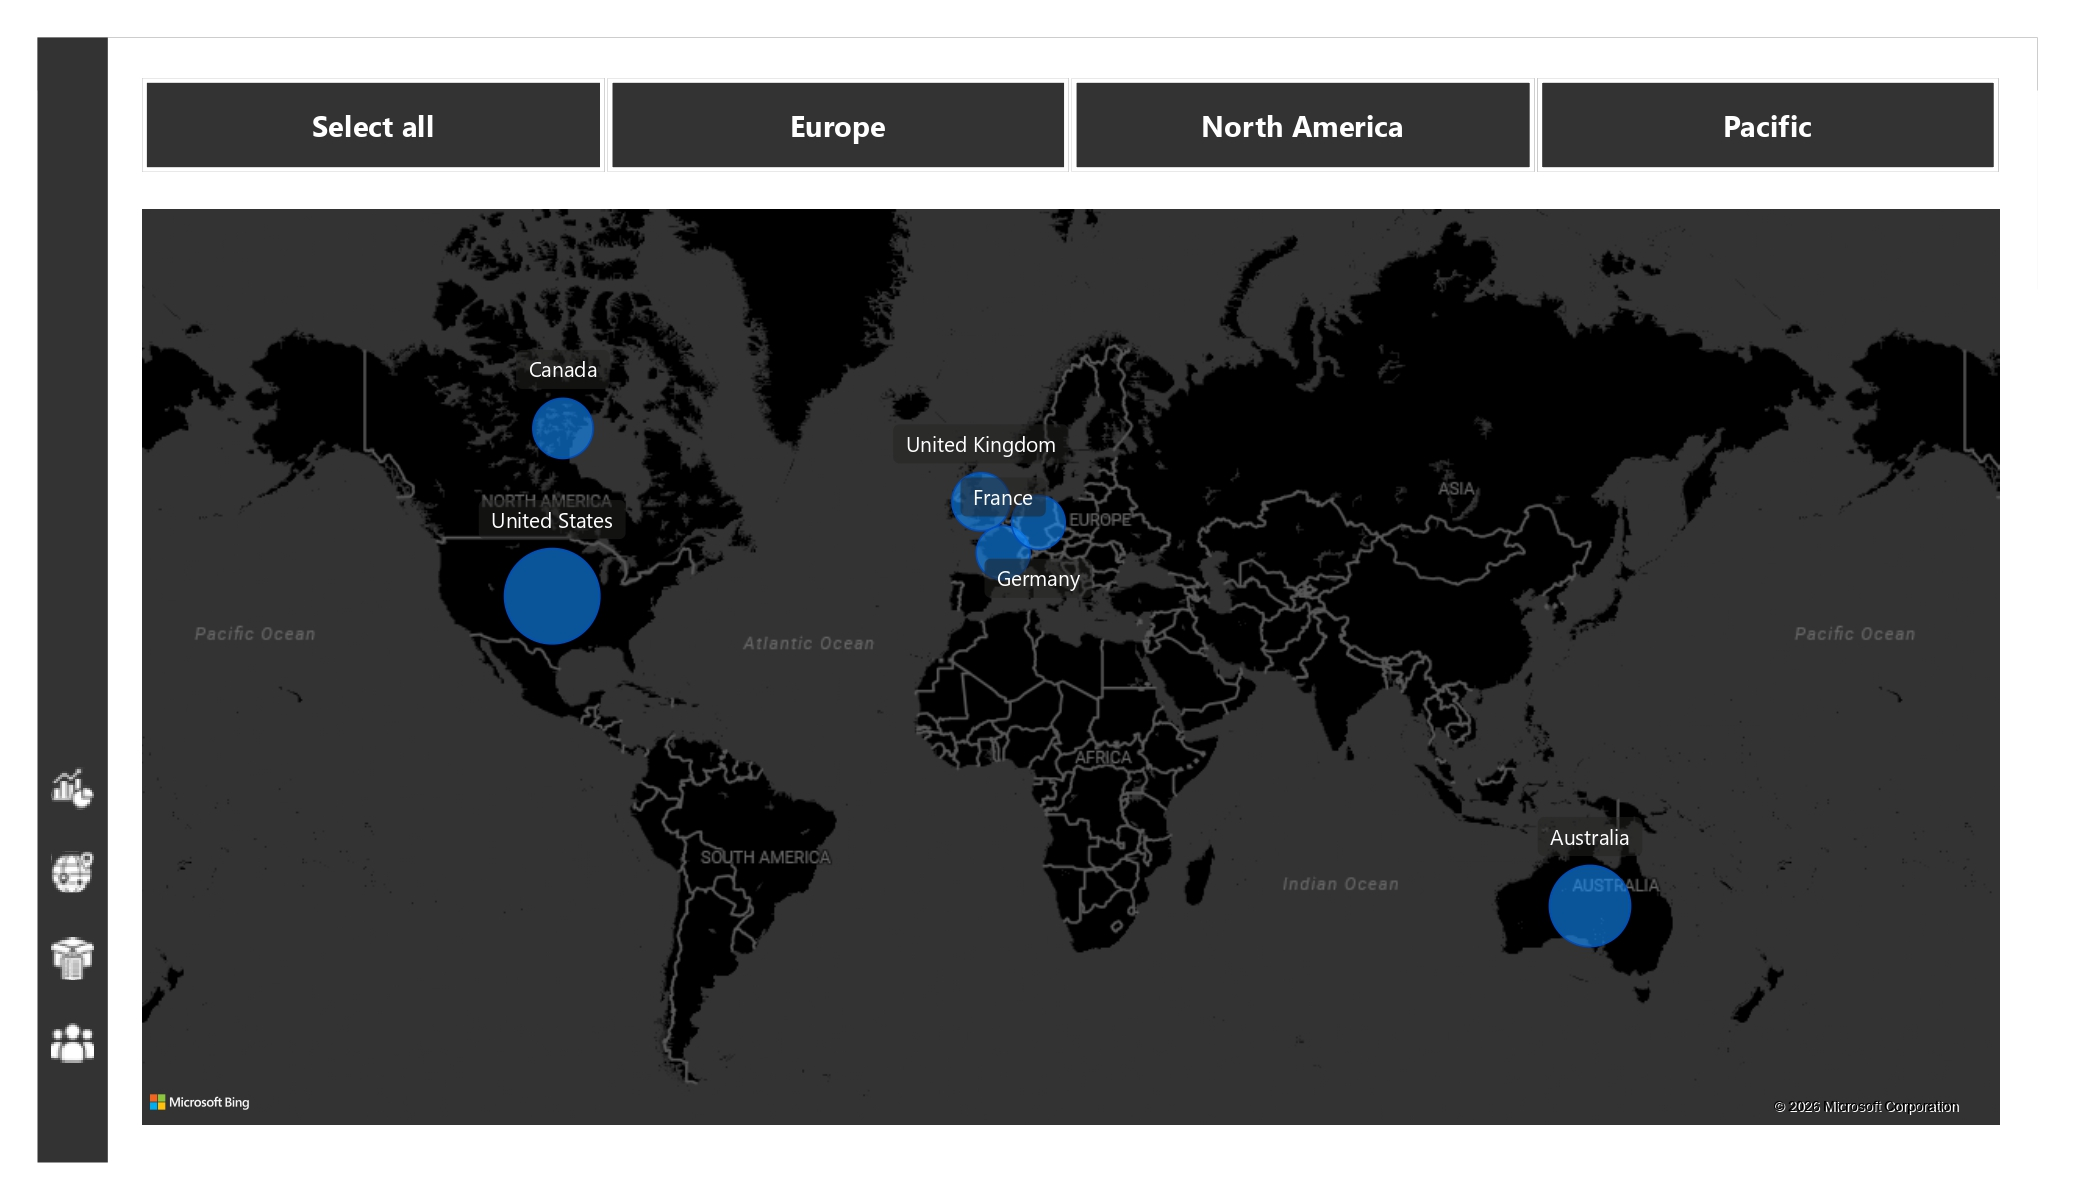

The page's visual inventory and layout, read from the dashboard file:
{"tool":"powerbi","page":{"name":"Map","canvas":[1280,720],"ordinal":1},"visuals":[{"type":"slicer","fields":{"Values":["Territory Lookup.Continent"]},"box":[40.9,19.1,1238.2,73.6],"z":0},{"type":"map","fields":{"Category":["Territory Lookup.Country"],"Size":["Measuer Table.Total Orders"]},"box":[61.8,104.5,1199.1,596.4],"z":1000},{"type":"actionButton","box":[5,463,35,35],"z":1000,"group":"g1"},{"type":"shape","box":[0,0,45,720],"z":2000},{"type":"actionButton","box":[5,517.3,35,35],"z":2000,"group":"g1"},{"type":"group","id":"g1","title":"Navigation Buttons","box":[5,463,35,198],"z":3000},{"type":"actionButton","box":[5,571.7,35,35],"z":3000,"group":"g1"},{"type":"actionButton","box":[5,626,35,35],"z":4000,"group":"g1"}]}

Visuals, with their boxes in screenshot pixels (x1, y1, x2, y2):
slicer - Territory Lookup.Continent: 95:73:2005:186
map - Territory Lookup.Country x Measuer Table.Total Orders: 128:204:1977:1124
actionButton: 40:757:94:811
shape: 32:43:102:1153
actionButton: 40:841:94:895
"Navigation Buttons" group: 40:757:94:1062
actionButton: 40:925:94:979
actionButton: 40:1009:94:1062
